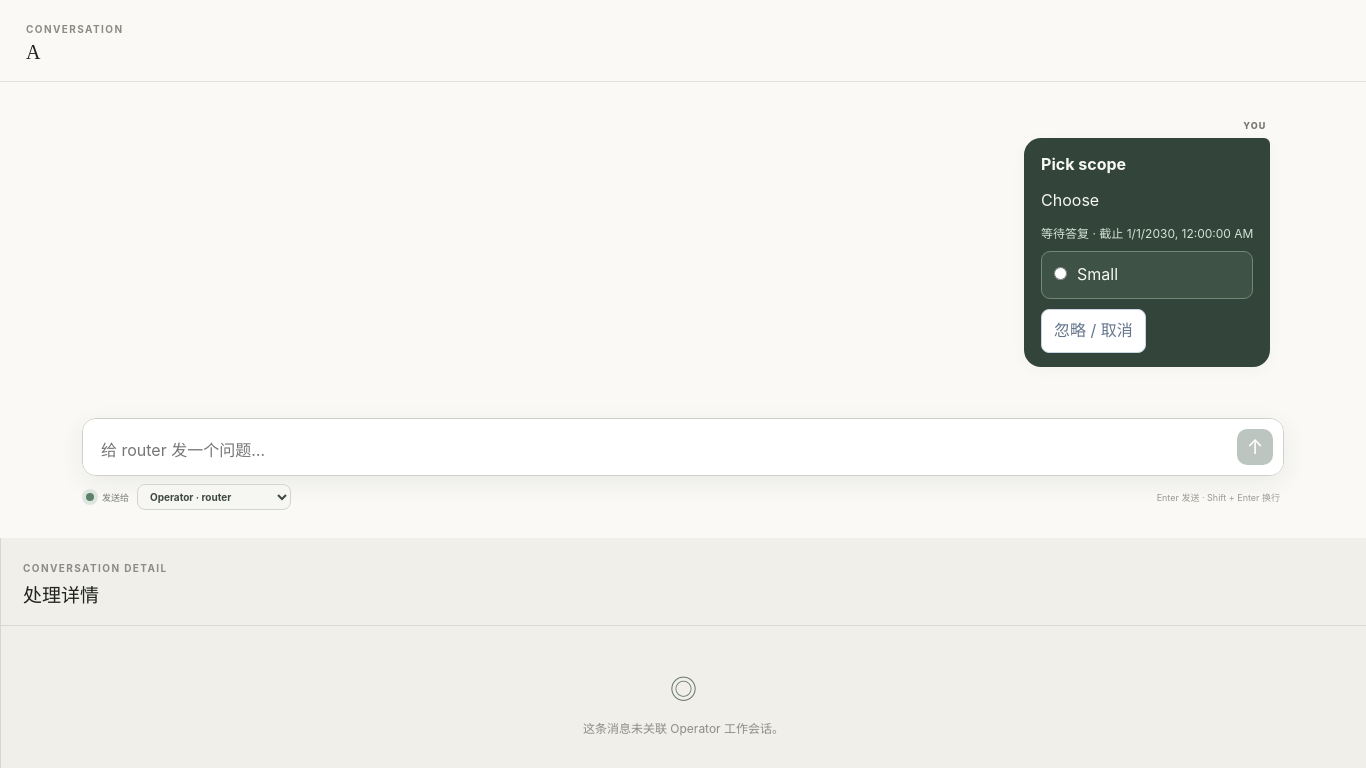
Test case: keeps a delayed Human reply out of the newly selected conversation
Click the radio button labelled "Small". click: coordinates (1061, 274)
box: [1054,267,1067,280]
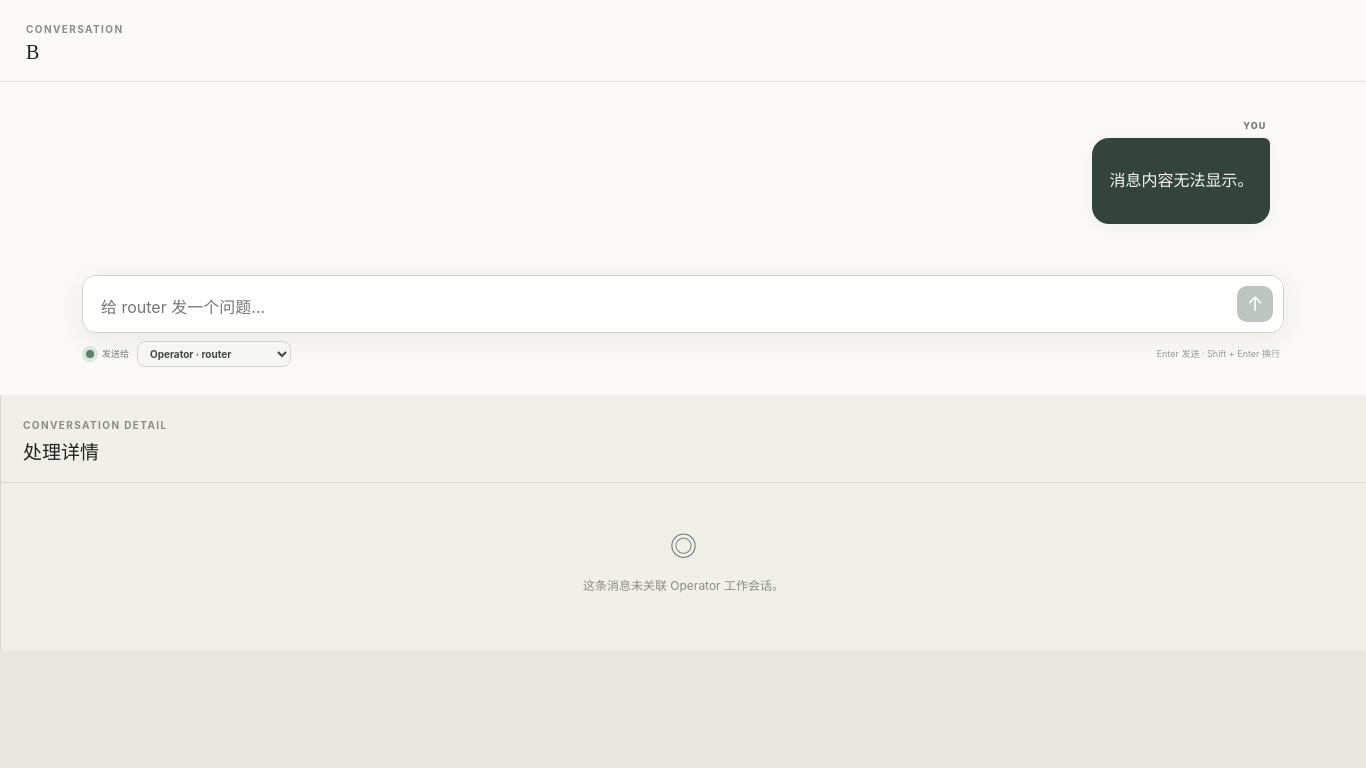
Expected: the text "Pick scope" is gone
